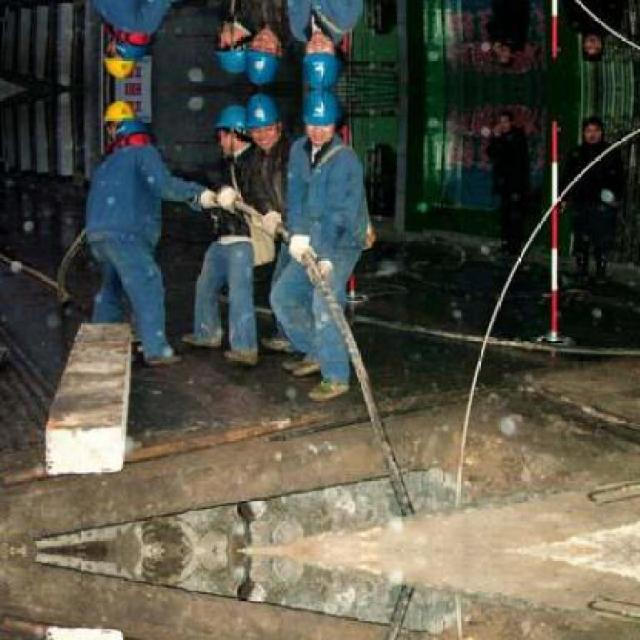helmet: (297, 89, 343, 145), (212, 100, 256, 158), (240, 92, 283, 151), (297, 31, 343, 86), (212, 17, 256, 74), (240, 25, 283, 83), (98, 96, 142, 141), (98, 35, 142, 79)
